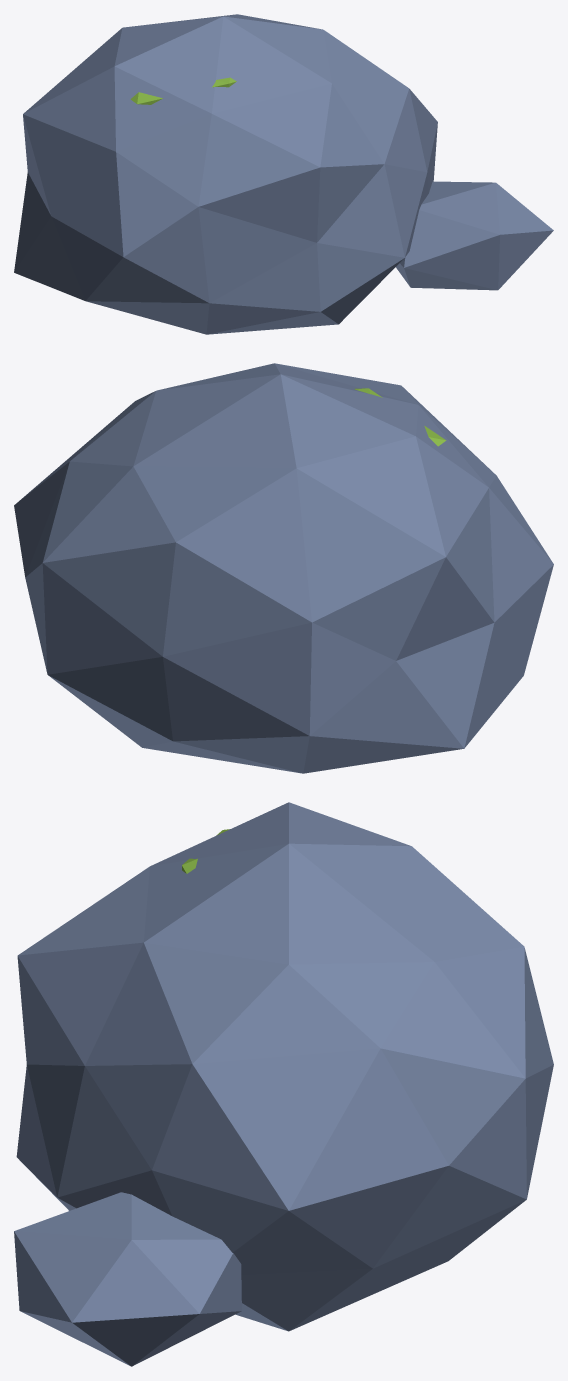
The model's file is rock_1.glb.
The picture shows the model from 3 angles, top to bottom: view 1: azimuth 30°, elevation 25°; view 2: azimuth 150°, elevation 25°; view 3: azimuth 270°, elevation 25°; orthographic projection. The views are drawn at different scales.
Parts seen in each view (by area): view 1: rock_0_mesh; view 2: rock_0_mesh; view 3: rock_0_mesh.
Boxes of the visible parts, <box> form: rock_0_mesh: <box>14,14,553,334</box>; rock_0_mesh: <box>14,363,553,773</box>; rock_0_mesh: <box>14,802,553,1366</box>.
Size of the model in its own units: 1.33 by 0.8718 by 1.03.
